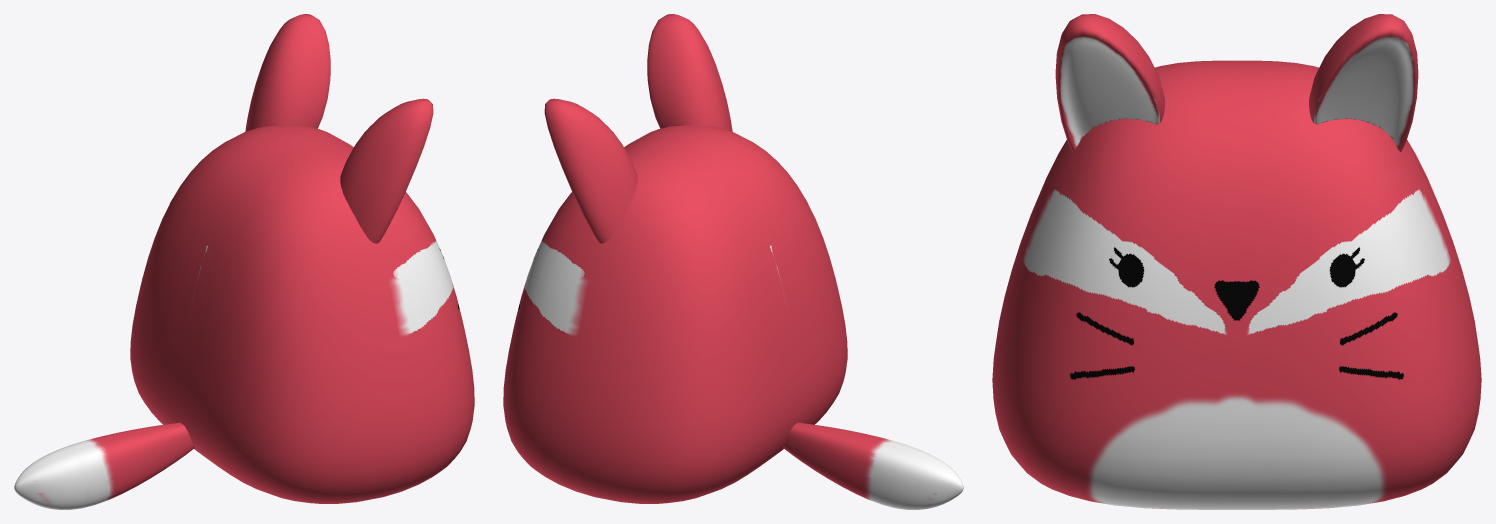
Rendered from BIGFOXY.glb.
The picture shows the model from 3 angles, left to right: view 1: azimuth 30°, elevation 25°; view 2: azimuth 150°, elevation 25°; view 3: azimuth 270°, elevation 25°; orthographic projection. The views are drawn at different scales.
Visible parts, largest first — view 1: Cube; view 2: Cube; view 3: Cube.
Boxes of the visible parts, x1,y1,x2,y2 form: Cube: [14, 14, 474, 509]; Cube: [503, 14, 963, 509]; Cube: [992, 14, 1481, 509].
Bounding box in the file's own units: 2.64 × 2.36 × 2.11.
1 material, 1 textured.
